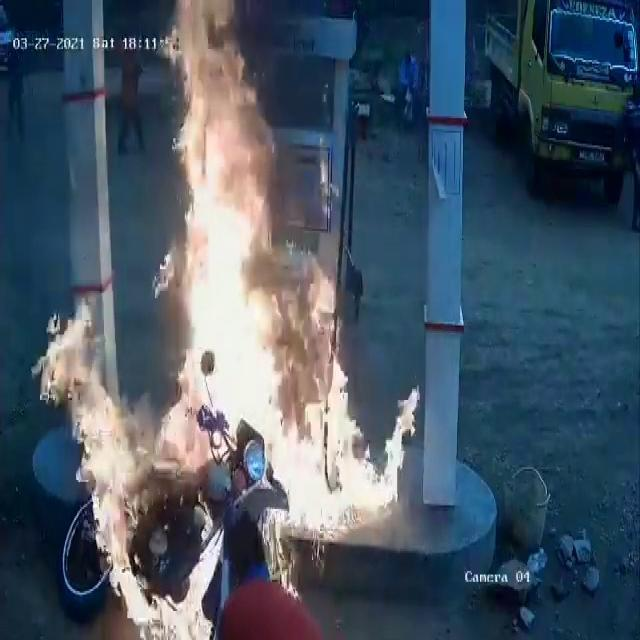Fire: (150, 0, 301, 453), (38, 288, 152, 626), (264, 353, 418, 570)
